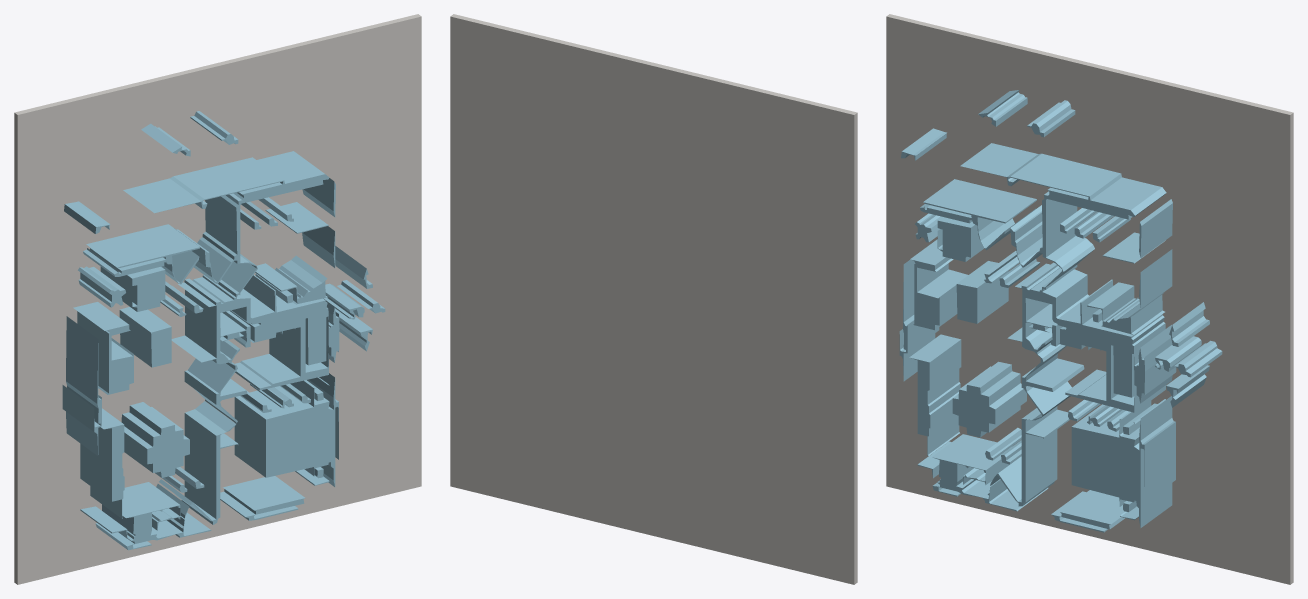
3 views of the same model, side by side, from view 1: azimuth 30°, elevation 25°; view 2: azimuth 150°, elevation 25°; view 3: azimuth 330°, elevation 25° (orthographic).
Visible parts, largest first — view 1: world; view 2: world; view 3: world.
Boxes of the visible parts, left/top/right/bottom form: world: left=14, top=14, right=421, bottom=584; world: left=450, top=14, right=857, bottom=584; world: left=886, top=14, right=1293, bottom=584.
Bounding box in the file's own units: 10.23 × 11.37 × 1.53.
